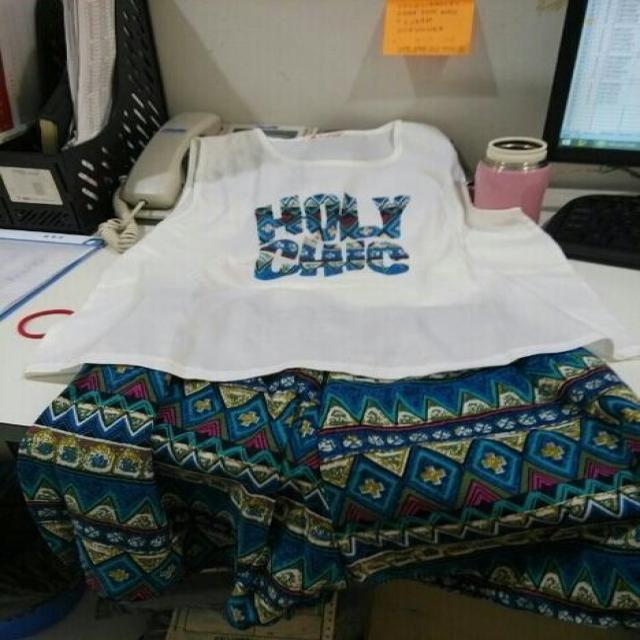shorts: (29, 321, 639, 630)
vest: (26, 122, 639, 378)
